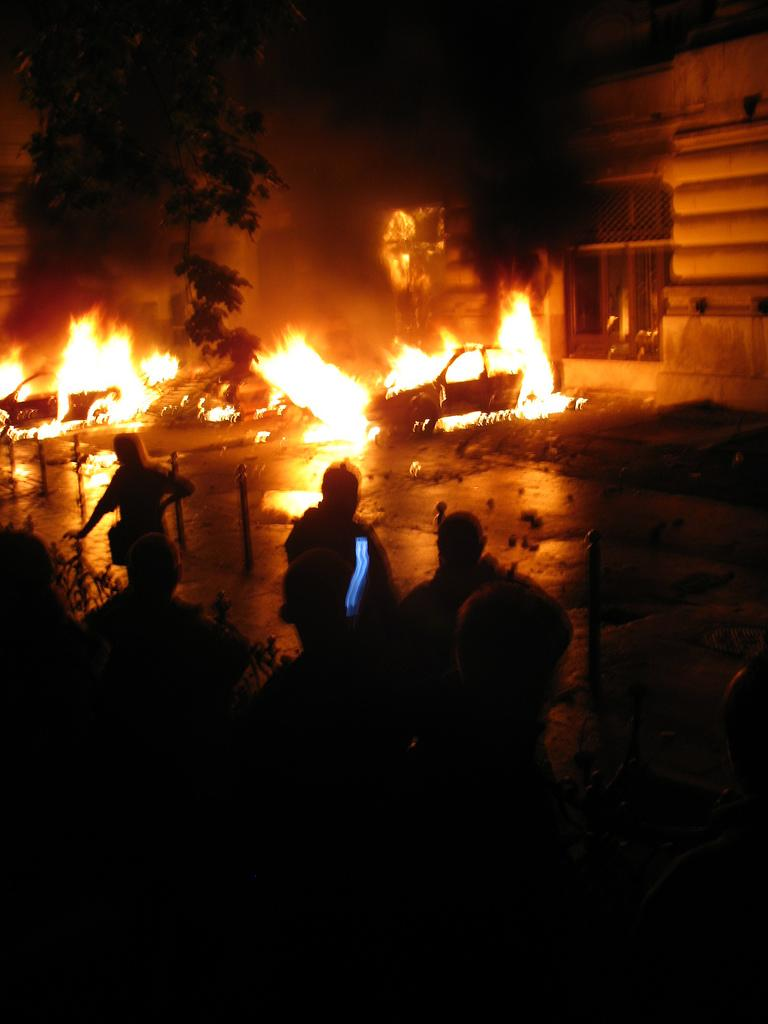fire: (285, 368, 358, 418), (65, 345, 128, 392), (512, 320, 542, 405), (398, 358, 440, 390)
